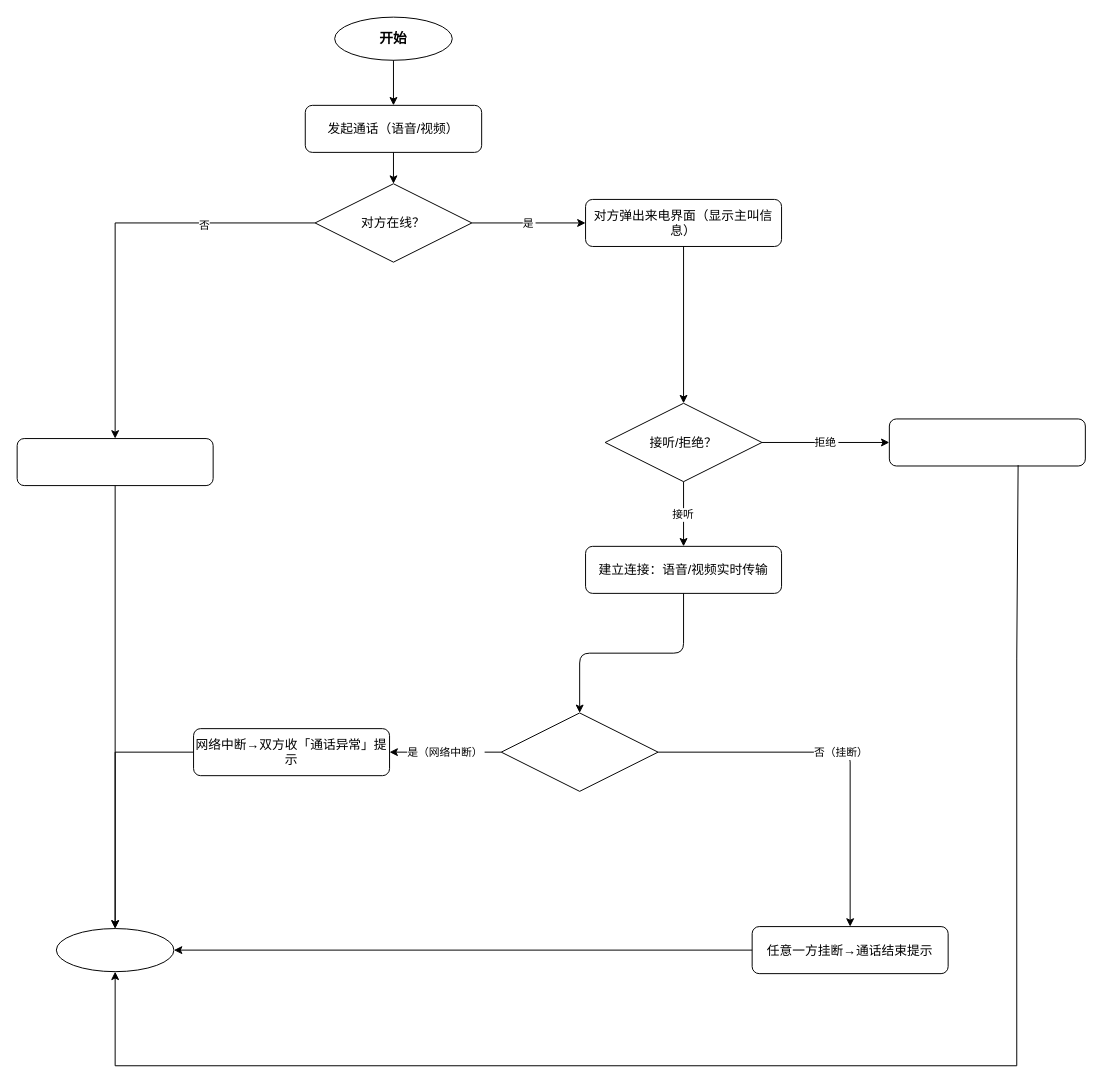
This 1103x1091 diagram has some shape labels left out. The shapes that lost their labels are listed below. From the top down, each one's centre as x and y in pixels, then its label:
(x=114, y=462): 超时→主叫方收「无人接听」提示
(x=986, y=442): 主叫方收「对方已拒绝」提示
(x=579, y=751): 通话异常？
(x=114, y=950): 结束
